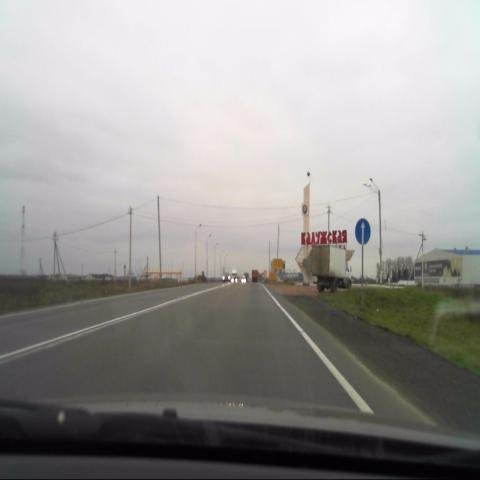4_1_1: (354, 217, 371, 246)
